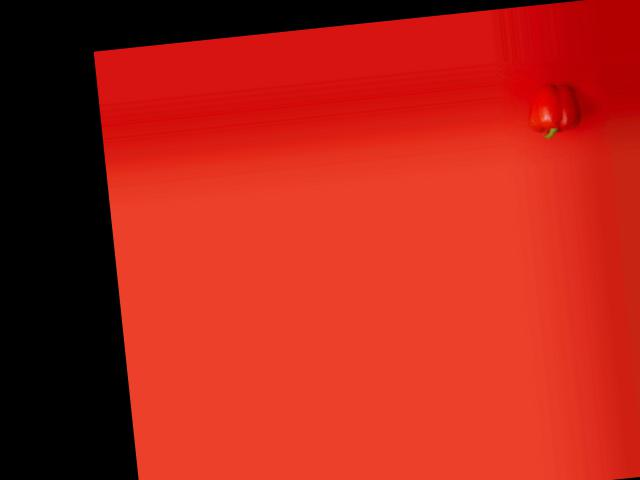bell_pepper: (527, 77, 585, 142)
